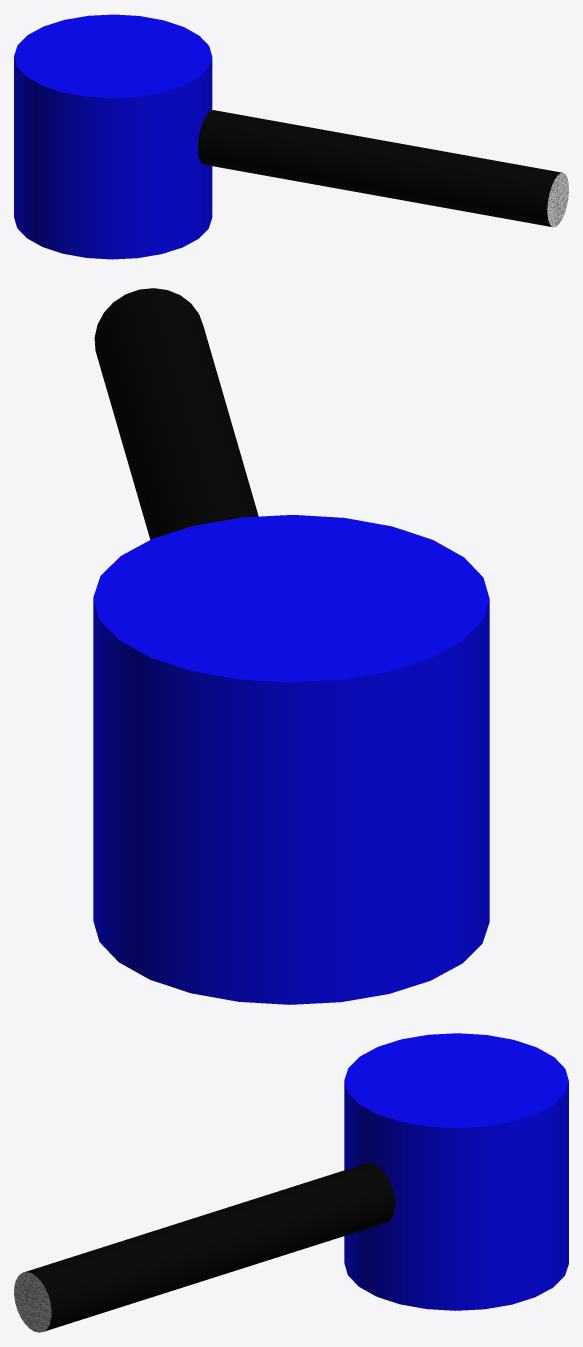
Rendered from mallet_03_origin_gt_5.dae.
3 views of the same model, one above another, from view 1: azimuth 30°, elevation 25°; view 2: azimuth 150°, elevation 25°; view 3: azimuth 270°, elevation 25° (orthographic). The views are drawn at different scales.
Parts seen in each view (by area): view 1: Untitled (×3); view 2: Untitled (×2); view 3: Untitled (×3).
Boxes of the visible parts, box(x1,y1,x2,y2) form: Untitled (×3): box(14, 14, 568, 259); Untitled (×2): box(93, 288, 489, 1004); Untitled (×3): box(14, 1033, 568, 1332).
Bounding box in the file's own units: 4.62 × 5.4 × 1.96.
